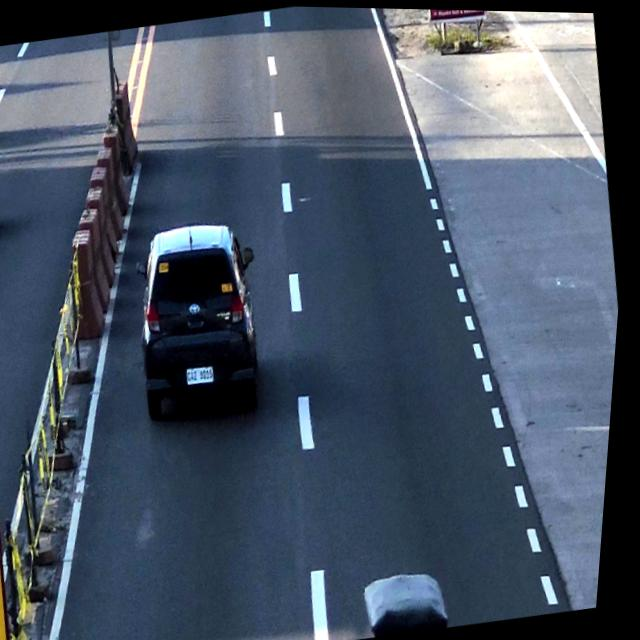Car: (124, 214, 280, 438)
License-Plate: (188, 361, 224, 392)
Tricycle: (364, 562, 465, 638)
